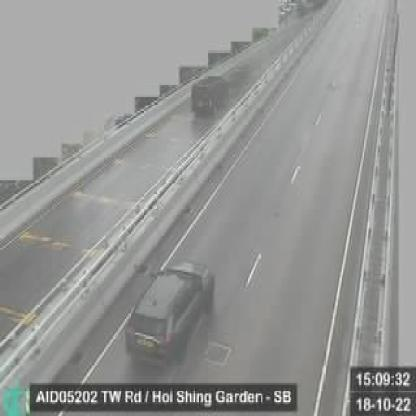Car: (122, 260, 217, 372), (190, 76, 230, 116)
